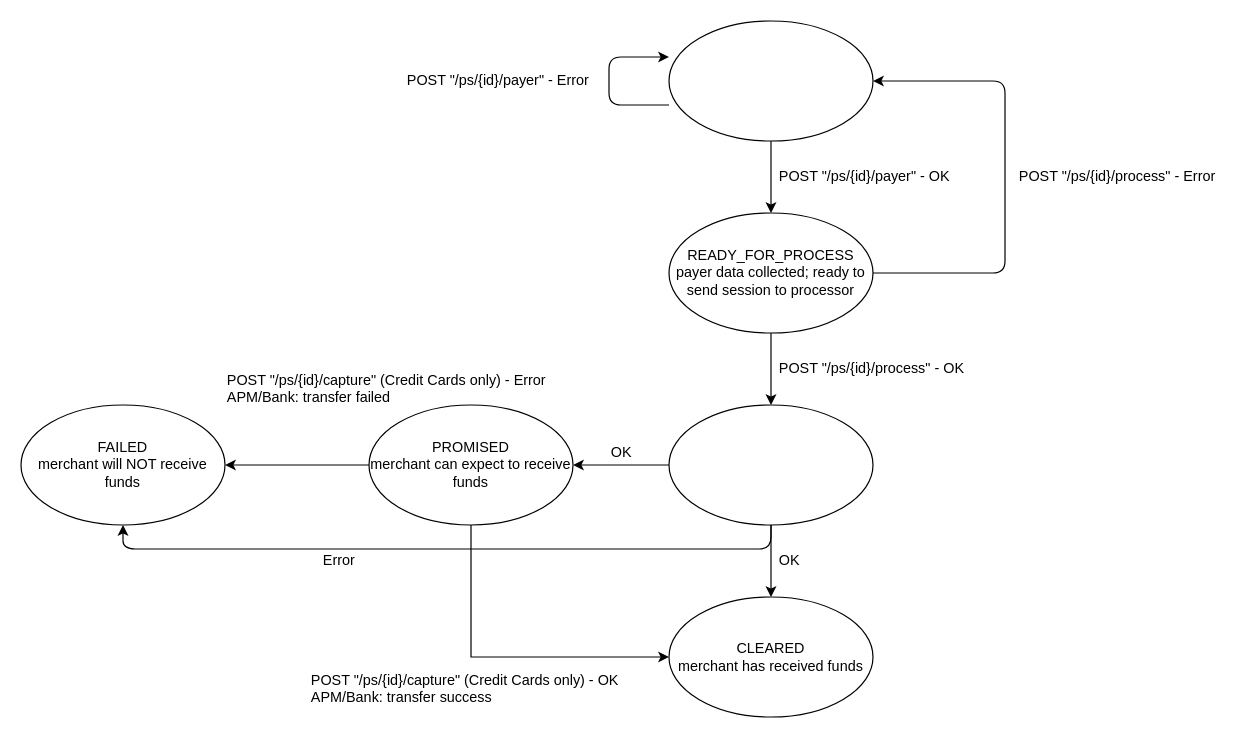
The diagram is 1254 pixels wide and 738 high, and some of its shapes have lost their labels. The box of each missing label's shape, as (x1, y1, x2, y2) in pixels:
INITIALIZED session created; payer data required: (668, 20, 873, 141)
PROCESSING additional steps required: (668, 404, 873, 525)
